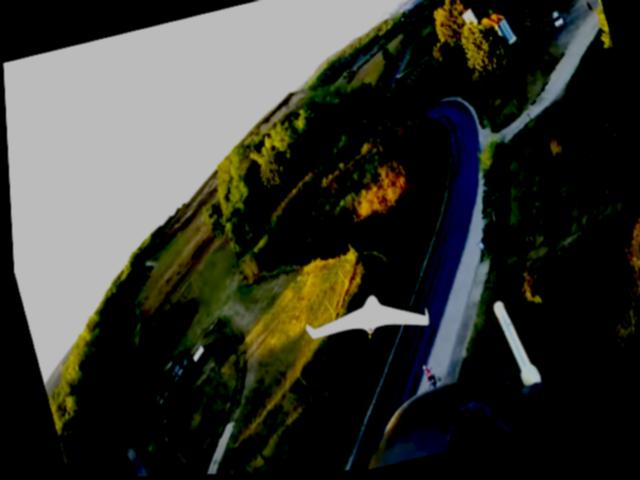plane: (297, 285, 427, 357)
